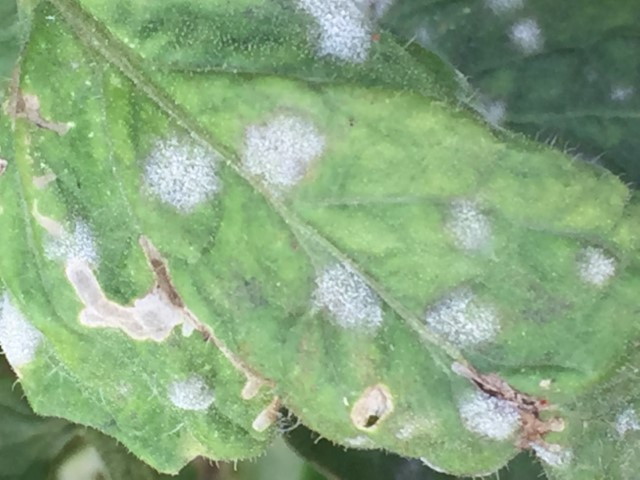oidio: (241, 110, 324, 194), (143, 137, 221, 211), (294, 1, 377, 69), (311, 263, 383, 332), (424, 289, 502, 348), (456, 389, 523, 440), (41, 218, 99, 272), (1, 292, 40, 364), (443, 197, 490, 252), (165, 372, 216, 409), (575, 243, 616, 287), (529, 440, 575, 471), (507, 19, 544, 56), (611, 405, 640, 439), (481, 97, 508, 126), (343, 434, 375, 451), (490, 1, 522, 18), (610, 81, 632, 103), (415, 20, 432, 45), (397, 423, 414, 440)
